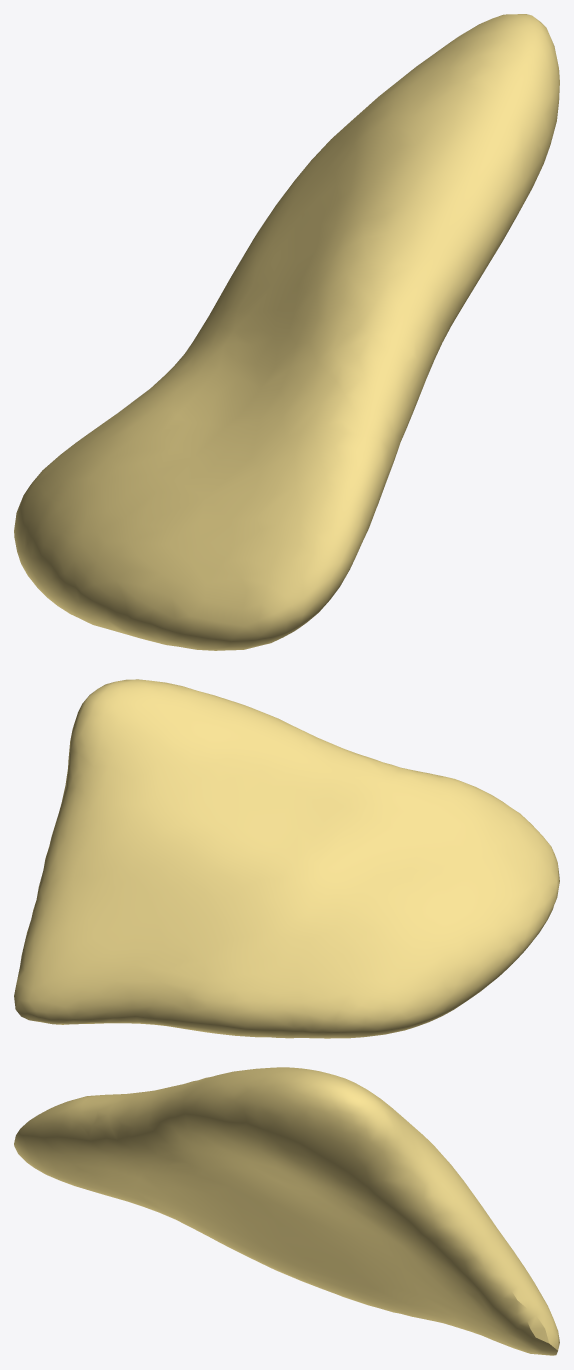
The picture shows the model from 3 angles, top to bottom: view 1: azimuth 30°, elevation 25°; view 2: azimuth 150°, elevation 25°; view 3: azimuth 270°, elevation 25°; orthographic projection. The views are drawn at different scales.
Parts seen in each view (by area): view 1: ZA_05d4d4086c783111; view 2: ZA_05d4d4086c783111; view 3: ZA_05d4d4086c783111.
Part boxes in pixels (x1,y1,x2,y2): ZA_05d4d4086c783111: [14, 14, 559, 650]; ZA_05d4d4086c783111: [14, 679, 559, 1038]; ZA_05d4d4086c783111: [14, 1067, 559, 1355].
Size of the model in its own units: 0.0173 by 0.0129 by 0.0206.
